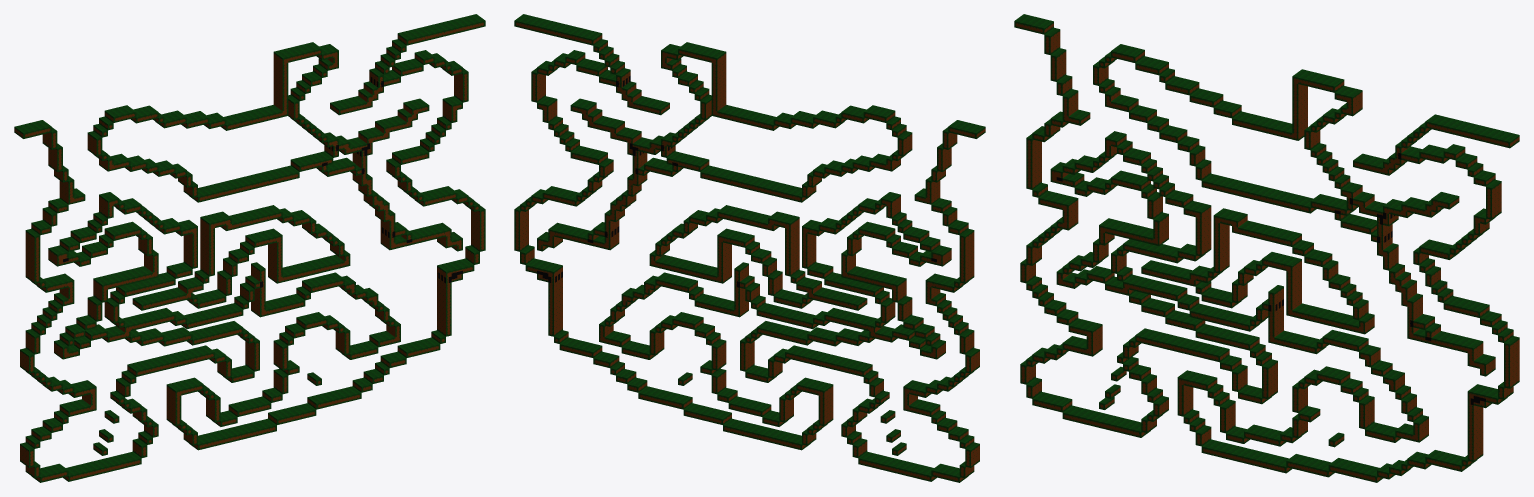
Rendered from Luna0RaritySolo.glb.
3 views of the same model, side by side, from view 1: azimuth 30°, elevation 25°; view 2: azimuth 150°, elevation 25°; view 3: azimuth 330°, elevation 25° (orthographic). The views are drawn at different scales.
Visible parts, largest first — view 1: Setor_0, Setor_1, Setor_2; view 2: Setor_0, Setor_1, Setor_2; view 3: Setor_0, Setor_1, Setor_2.
Part boxes in pixels (x1,y1,x2,y2): Setor_0: (14, 105, 203, 482); Setor_1: (194, 42, 383, 448); Setor_2: (375, 14, 485, 375); Setor_0: (796, 105, 985, 482); Setor_1: (616, 42, 805, 448); Setor_2: (514, 14, 624, 375); Setor_0: (1014, 14, 1216, 454); Setor_1: (1207, 69, 1410, 482); Setor_2: (1401, 114, 1519, 475).
Bounding box in the file's own units: 85.28 × 65.52 × 2.88.
1 material, 1 textured.
